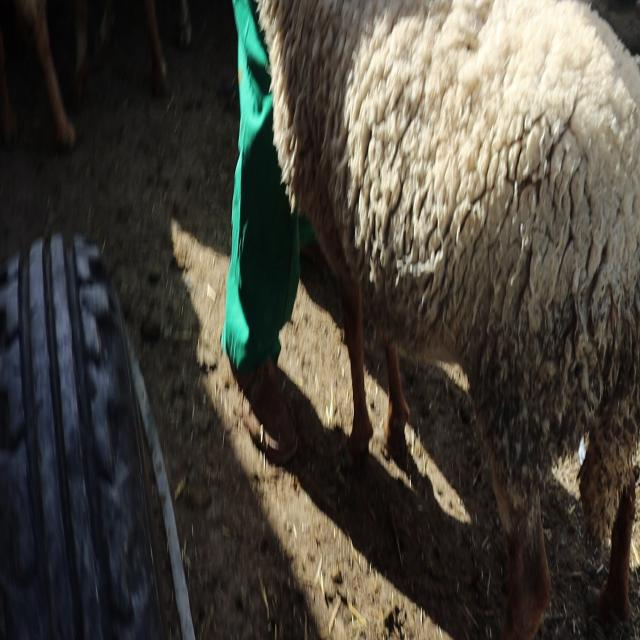Score_5: (258, 0, 640, 639)
